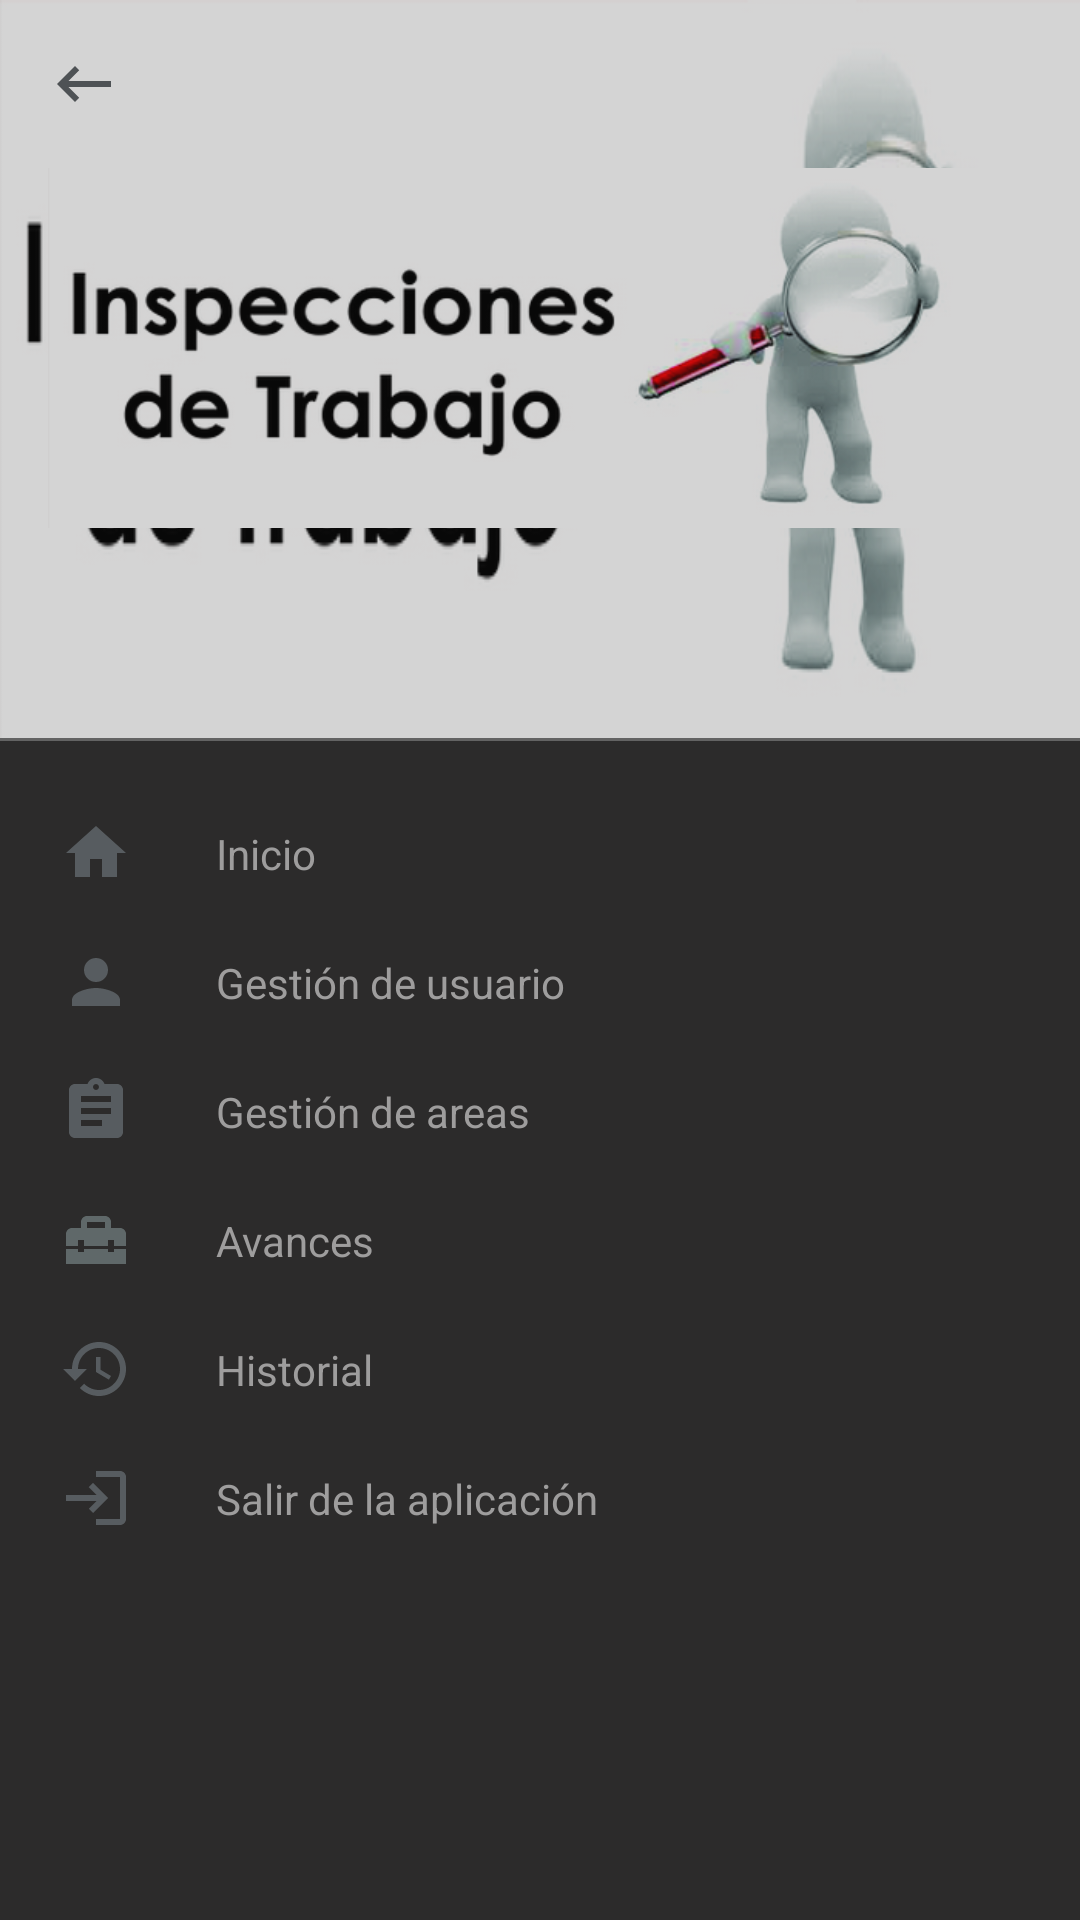

Screen size 1080 x 1920. Icon name, then its center in pixels as (x,y):
assigment: (96,1108)
history: (95,1369)
home: (96,851)
person: (96,982)
return: (84,84)
work: (96,1240)
